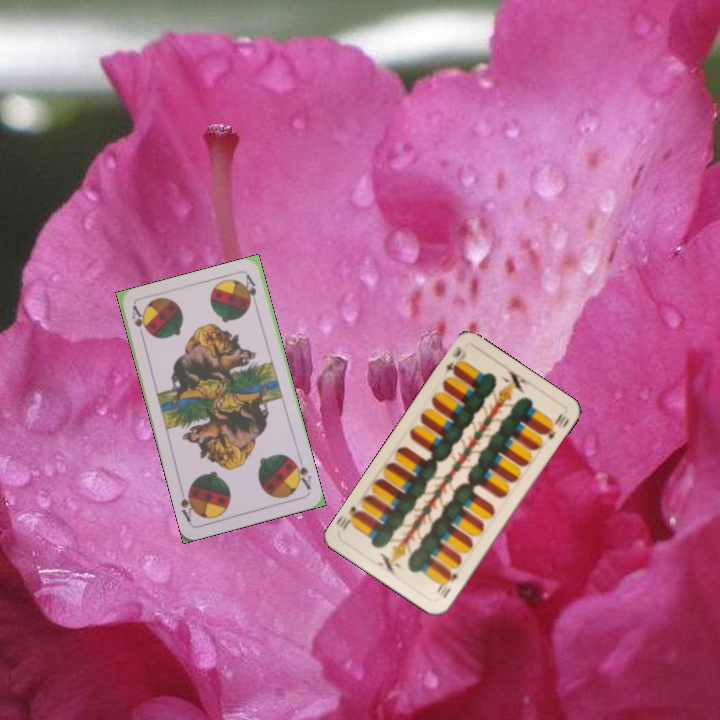E10: (434, 569, 460, 601), (441, 342, 464, 377)
SA: (289, 455, 314, 492), (127, 302, 150, 342)
